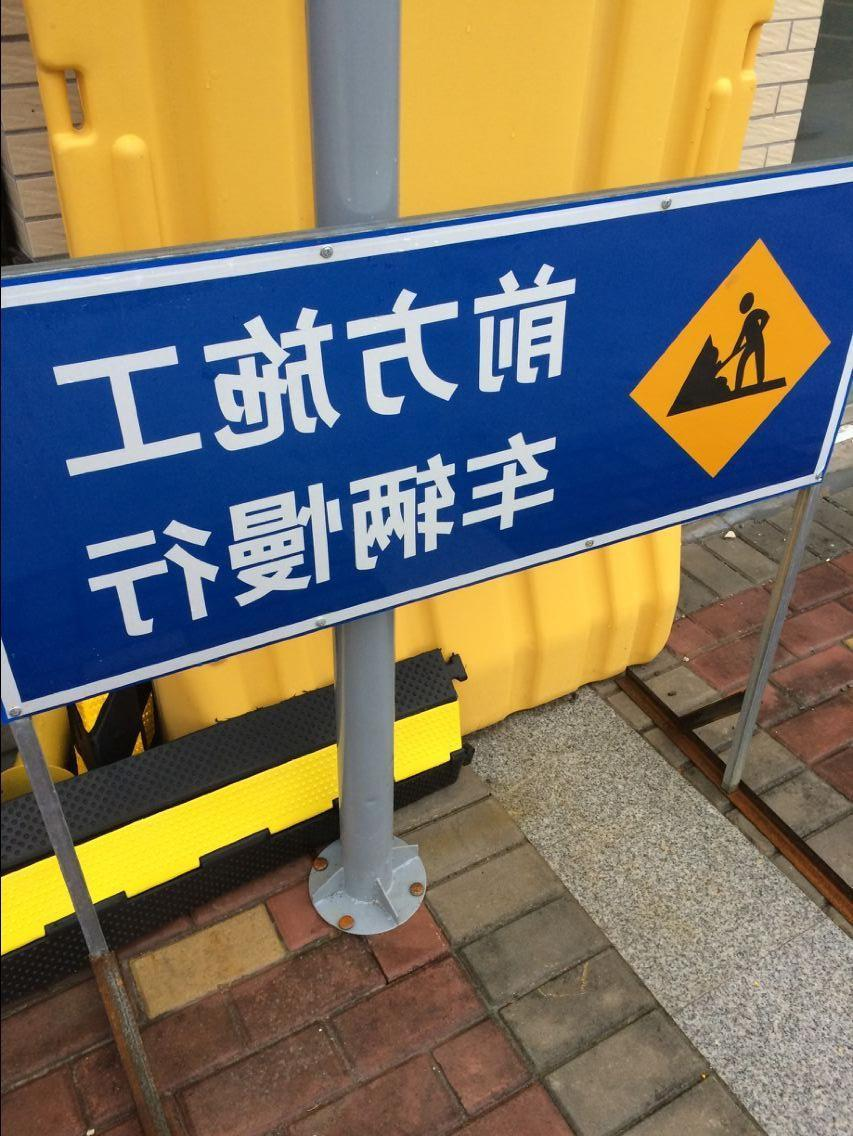sign: (2, 151, 853, 717)
